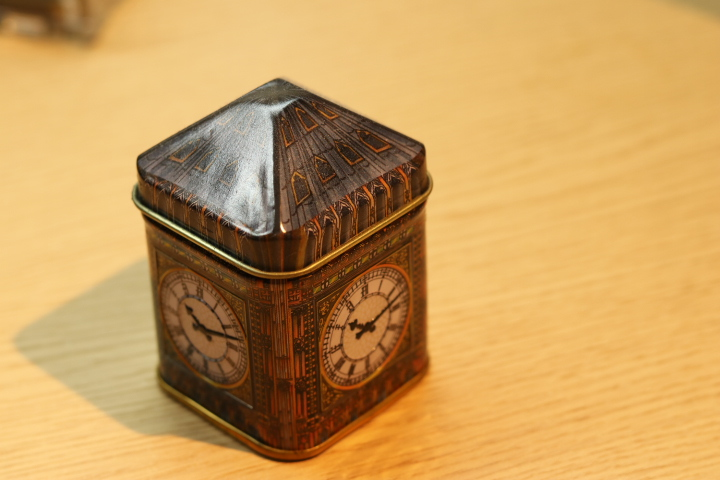Big Ben: (127, 67, 470, 477)
